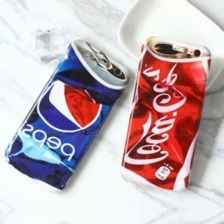can: (1, 35, 132, 195), (117, 26, 215, 195)
